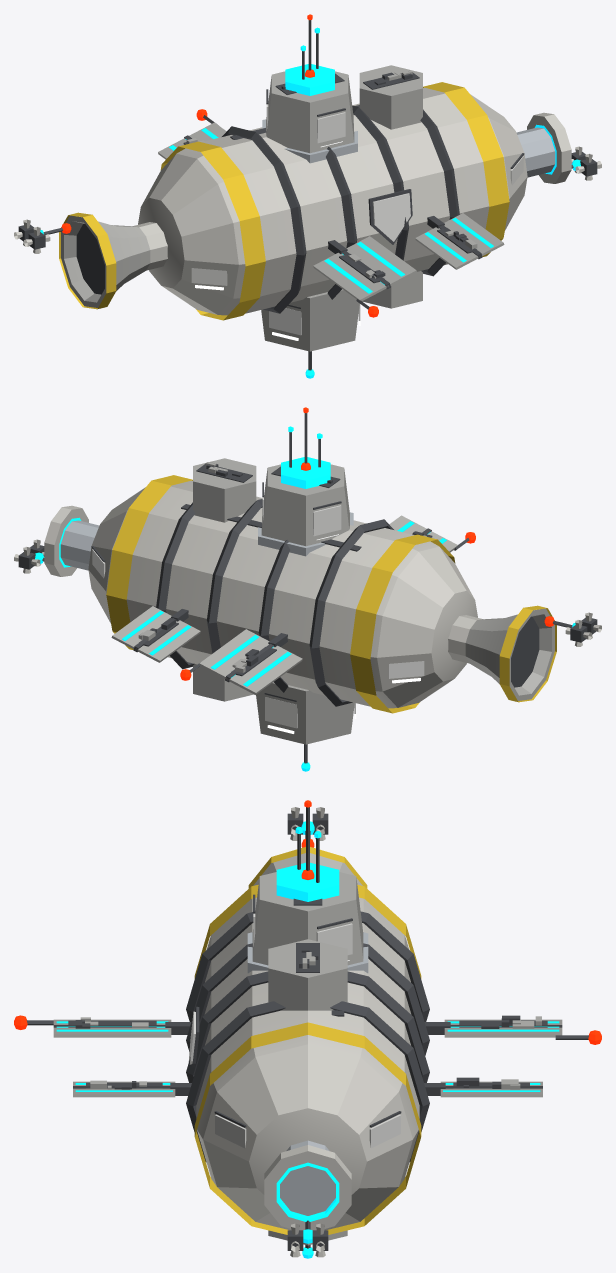
File: titanium_works.glb
The picture shows the model from 3 angles, top to bottom: view 1: azimuth 30°, elevation 25°; view 2: azimuth 150°, elevation 25°; view 3: azimuth 270°, elevation 25°; orthographic projection. The views are drawn at different scales.
Parts seen in each view (by area): view 1: titanium_works; view 2: titanium_works; view 3: titanium_works.
Boxes of the visible parts, x1=… form: titanium_works: x1=14, y1=14, x2=601, y2=378; titanium_works: x1=14, y1=407, x2=601, y2=771; titanium_works: x1=14, y1=800, x2=601, y2=1258.
Size of the model in its own units: 2 by 1.21 by 1.41.
